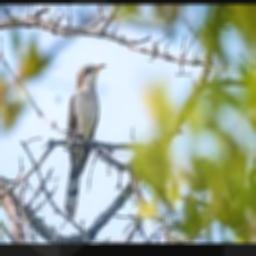Cuckoo: (64, 63, 106, 219)
